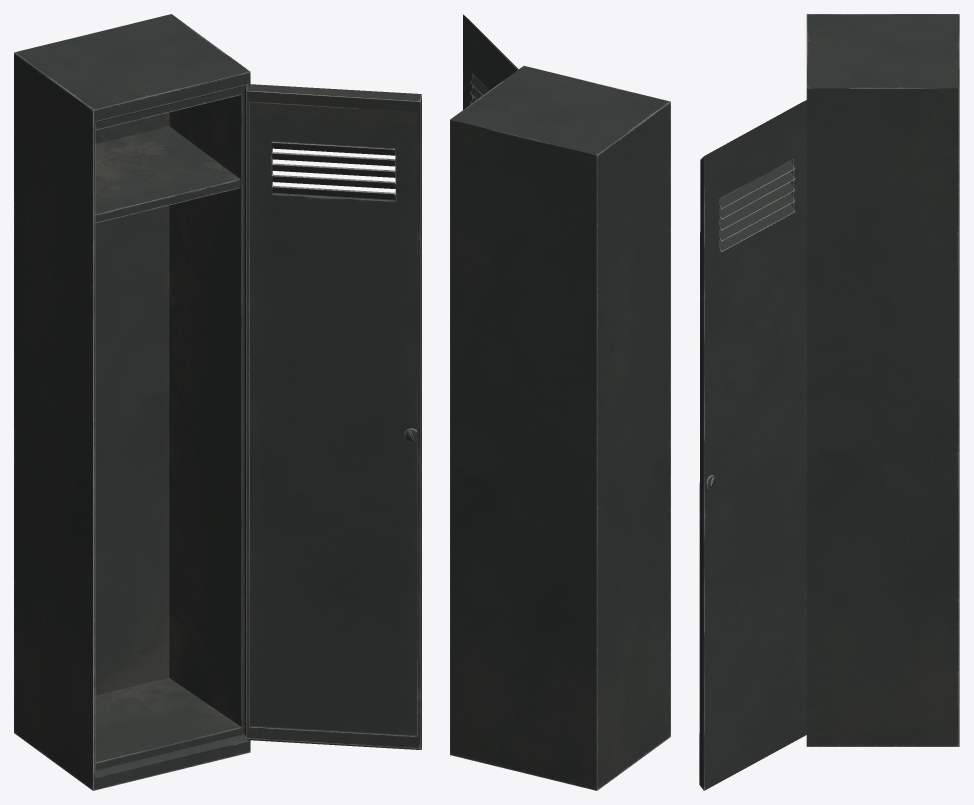
The picture shows the model from 3 angles, left to right: view 1: azimuth 30°, elevation 25°; view 2: azimuth 150°, elevation 25°; view 3: azimuth 270°, elevation 25°; orthographic projection. The views are drawn at different scales.
Parts seen in each view (by area): view 1: M.O.C, M.O.C porta; view 2: M.O.C, M.O.C porta; view 3: M.O.C, M.O.C porta.
Boxes of the visible parts, left/top/right/bottom form: M.O.C: left=14, top=14, right=250, bottom=790; M.O.C porta: left=246, top=84, right=421, bottom=749; M.O.C: left=450, top=65, right=670, bottom=790; M.O.C porta: left=463, top=14, right=518, bottom=109; M.O.C: left=806, top=14, right=959, bottom=746; M.O.C porta: left=699, top=100, right=806, bottom=790.
Size of the model in its own units: 84.33 by 199 by 71.17.
